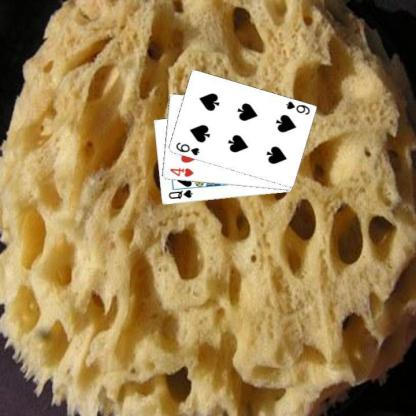4H: (168, 165, 194, 179)
6S: (283, 99, 311, 116), (174, 140, 200, 156)
QS: (166, 188, 193, 200)
